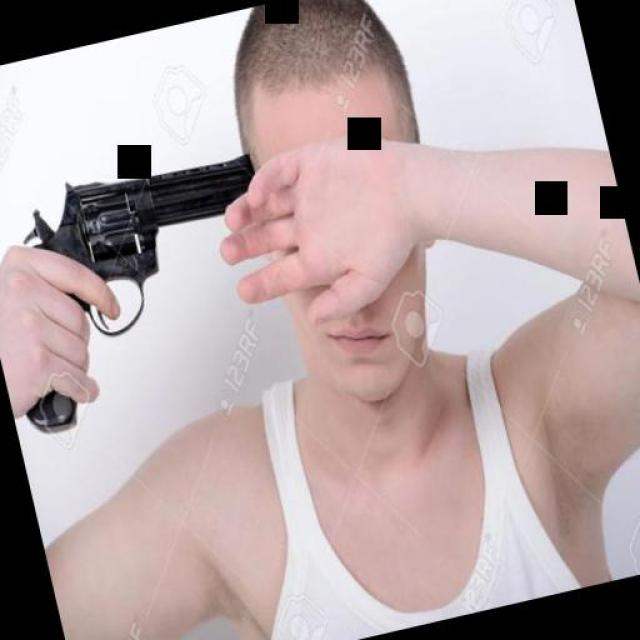gun: (0, 150, 301, 439)
